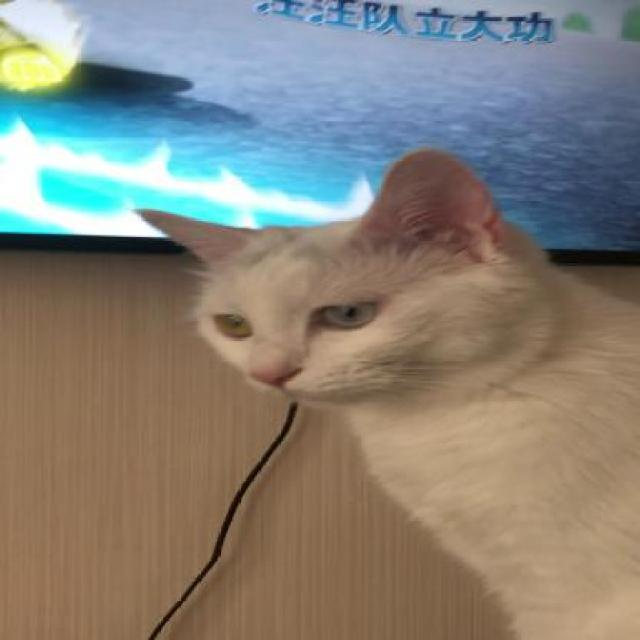cat-face: (156, 216, 564, 409)
